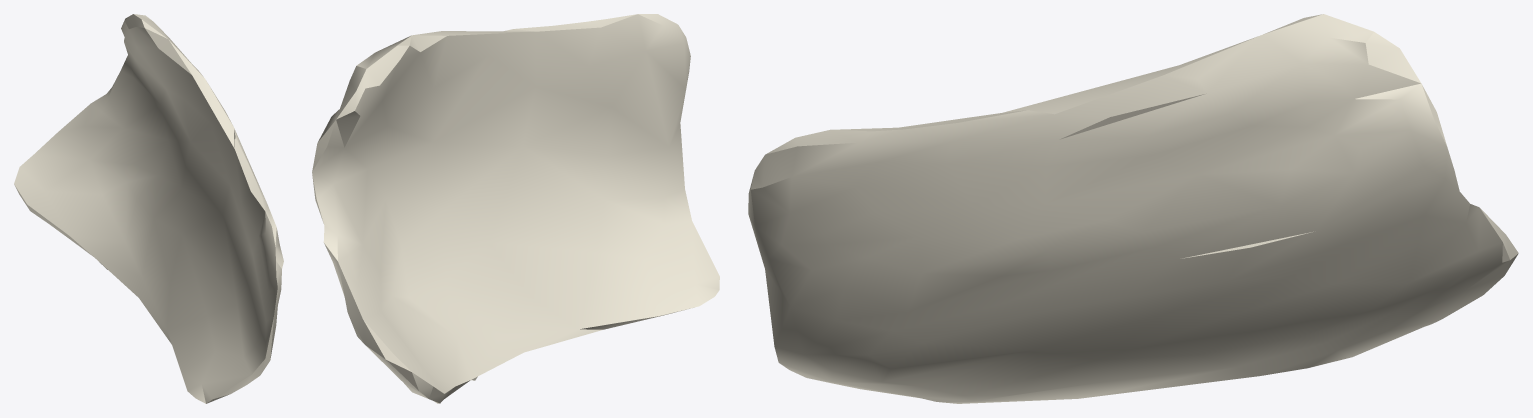
Rendered from fma326798-l_mm1442.glb.
3 renders of one model, left to right at view 1: azimuth 30°, elevation 25°; view 2: azimuth 150°, elevation 25°; view 3: azimuth 270°, elevation 25°, orthographic. The views are drawn at different scales.
Parts seen in each view (by area): view 1: FMA326798-L_MM1442; view 2: FMA326798-L_MM1442; view 3: FMA326798-L_MM1442.
Part boxes in pixels (box(x1,y1,x2,y2)): FMA326798-L_MM1442: box(14, 14, 283, 403); FMA326798-L_MM1442: box(312, 14, 719, 403); FMA326798-L_MM1442: box(748, 14, 1518, 403).
Size of the model in its own units: 0.00217 by 0.00454 by 0.00722.
